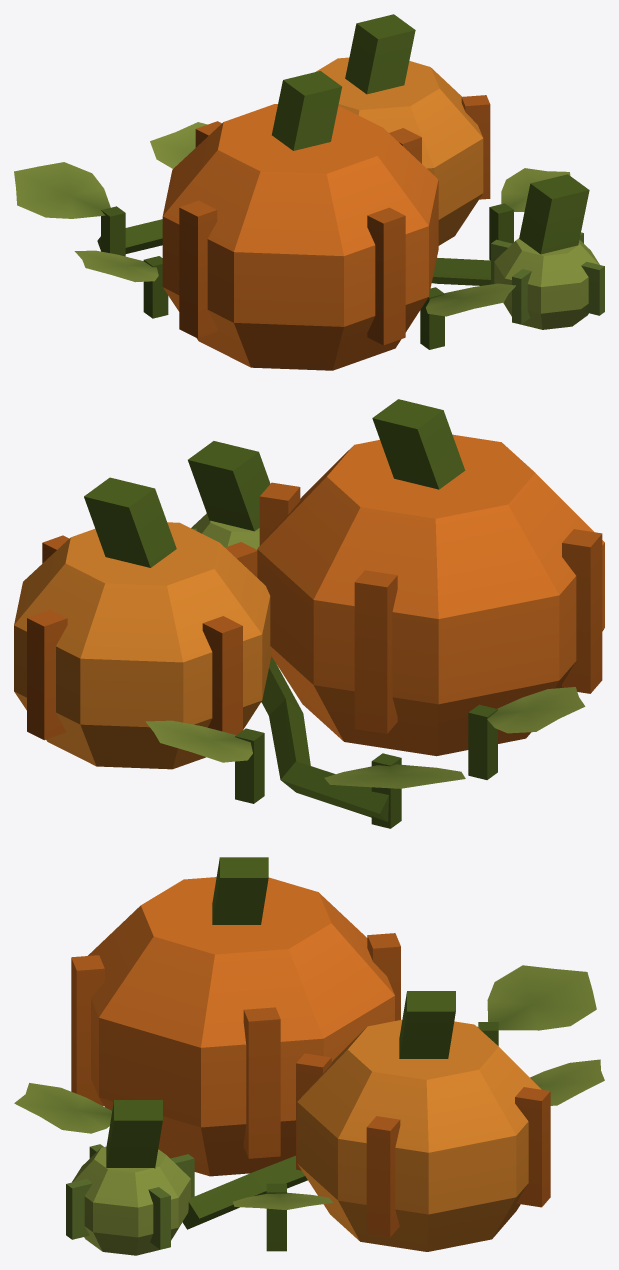
File: crop_pumpkin.glb
3 renders of one model, top to bottom at view 1: azimuth 30°, elevation 25°; view 2: azimuth 150°, elevation 25°; view 3: azimuth 270°, elevation 25°, orthographic. The views are drawn at different scales.
Parts seen in each view (by area): view 1: crop_pumpkin; view 2: crop_pumpkin; view 3: crop_pumpkin.
Boxes of the visible parts, bbox=[...] form: crop_pumpkin: bbox=[14, 14, 604, 370]; crop_pumpkin: bbox=[14, 399, 604, 828]; crop_pumpkin: bbox=[14, 857, 604, 1255].
Bounding box in the file's own units: 1.48 × 0.726 × 1.45.
